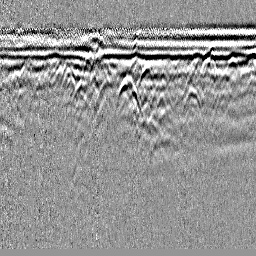cavity: (114, 73, 143, 117)
